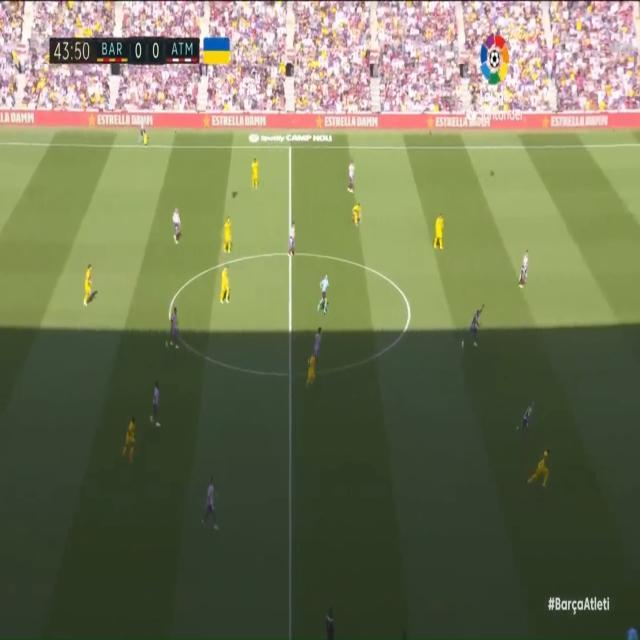ball: (487, 166, 497, 182)
player: (460, 299, 487, 354), (526, 445, 553, 493), (201, 475, 219, 534), (165, 306, 184, 359), (121, 414, 140, 465), (80, 257, 97, 311), (515, 396, 537, 436), (218, 264, 234, 312), (148, 383, 164, 429), (518, 246, 531, 294), (312, 323, 326, 367), (170, 207, 183, 252), (349, 200, 367, 229), (304, 350, 317, 390), (223, 215, 234, 262), (346, 156, 357, 200), (250, 156, 262, 194), (289, 217, 299, 262), (435, 211, 445, 254)
referee: (317, 268, 333, 317), (138, 114, 150, 146), (622, 622, 640, 640)
